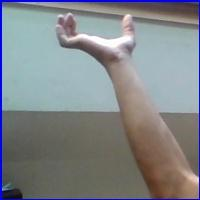space: (51, 9, 143, 70)
